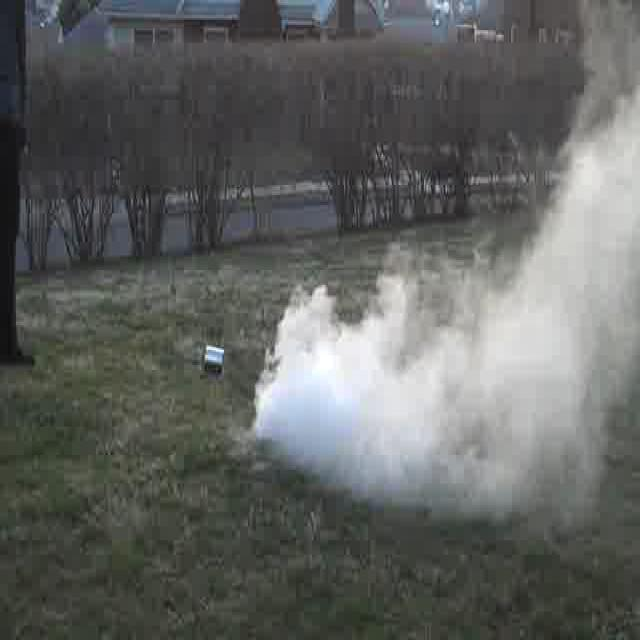Smoke: (280, 260, 637, 502)
